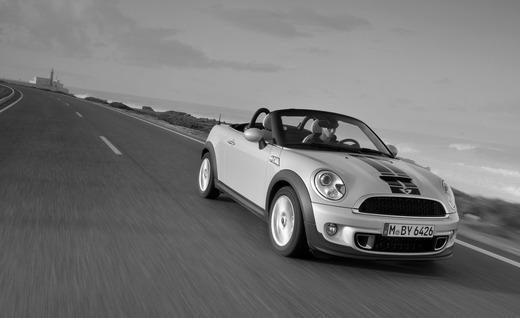car: (196, 108, 460, 266)
